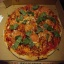basil: (12, 36, 34, 48), (44, 25, 61, 39), (17, 6, 34, 18), (35, 13, 49, 24), (10, 24, 20, 29)
pizza: (4, 3, 63, 61)
